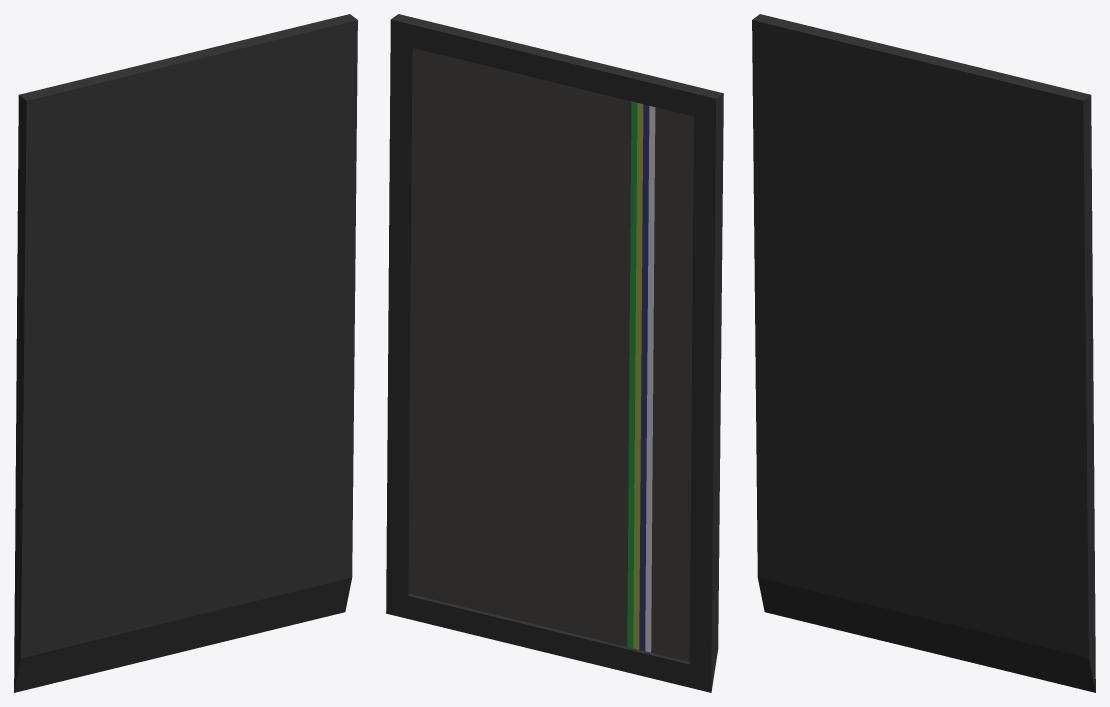
Rendered from Pantalla Rota tipo 2.fbx.
3 views of the same model, side by side, from view 1: azimuth 30°, elevation 25°; view 2: azimuth 150°, elevation 25°; view 3: azimuth 330°, elevation 25° (orthographic).
Parts seen in each view (by area): view 1: Pantalla_Rota_tipo_2; view 2: Pantalla_Rota_tipo_2; view 3: Pantalla_Rota_tipo_2.
Boxes of the visible parts, left/top/right/bottom form: Pantalla_Rota_tipo_2: left=14, top=14, right=357, bottom=692; Pantalla_Rota_tipo_2: left=386, top=14, right=723, bottom=692; Pantalla_Rota_tipo_2: left=752, top=14, right=1095, bottom=692.
Bounding box in the file's own units: 3.19 × 5.53 × 0.2101.
